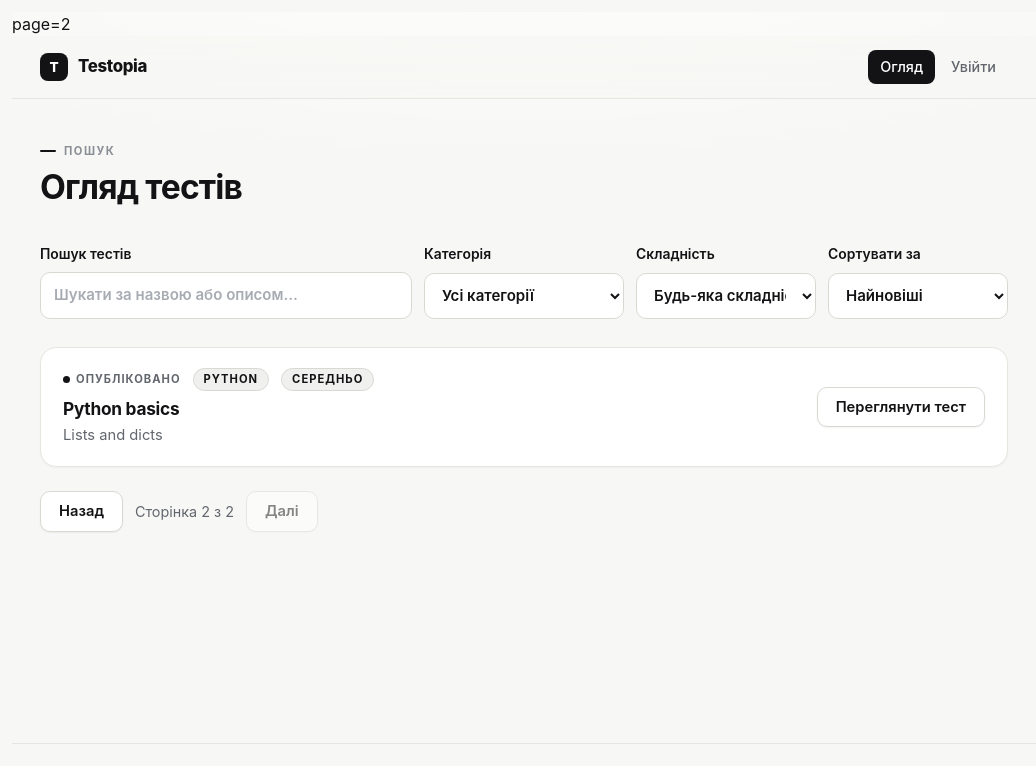
Test case: browse pagination and sorting › sorts through the select and resets to the first page
Check: the heading "Python basics" is shown, box x1=63 y1=398 x2=179 y2=419
Check: the text with test id "search-probe" reads "page=2", box x1=12 y1=14 x2=70 y2=34
Select "Найпопулярніші" in the dropdown labelled "Сортувати за" at {"x": 918, "y": 296}, box x1=828 y1=273 x2=1008 y2=319
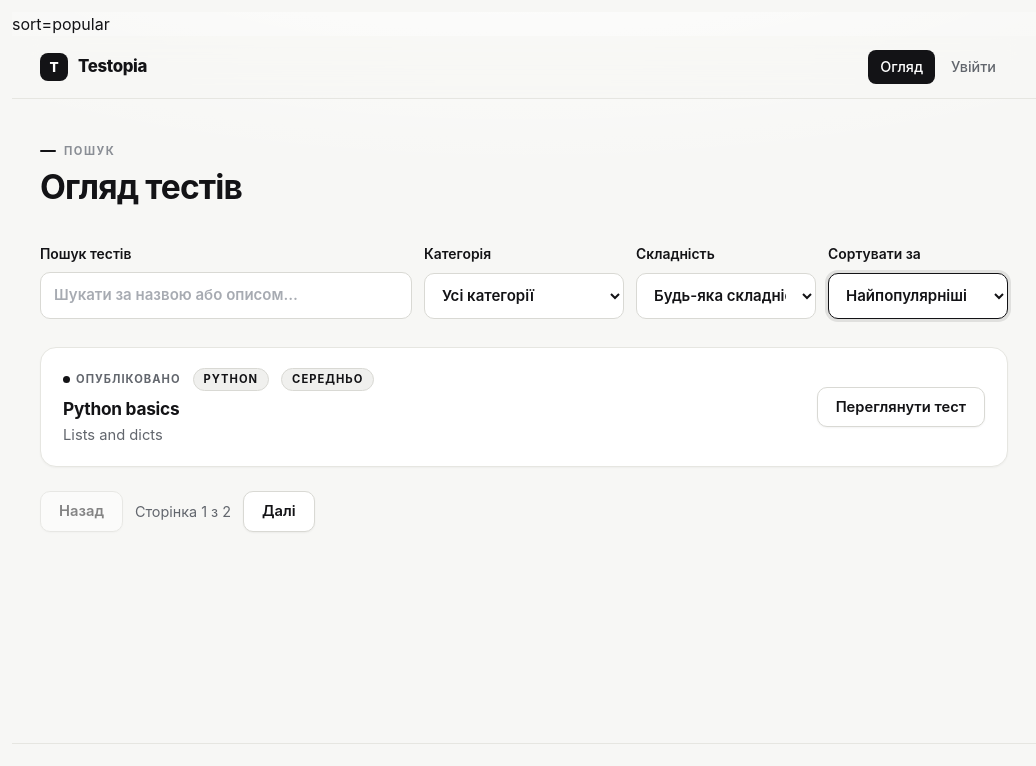
Check: the text "Сторінка 1 з 2" is shown, box x1=135 y1=501 x2=231 y2=522
Check: the text with test id "search-probe" reads "sort=popular", box x1=12 y1=14 x2=110 y2=34
Click the button "Далі" at {"x": 279, "y": 512}, box x1=243 y1=492 x2=315 y2=532
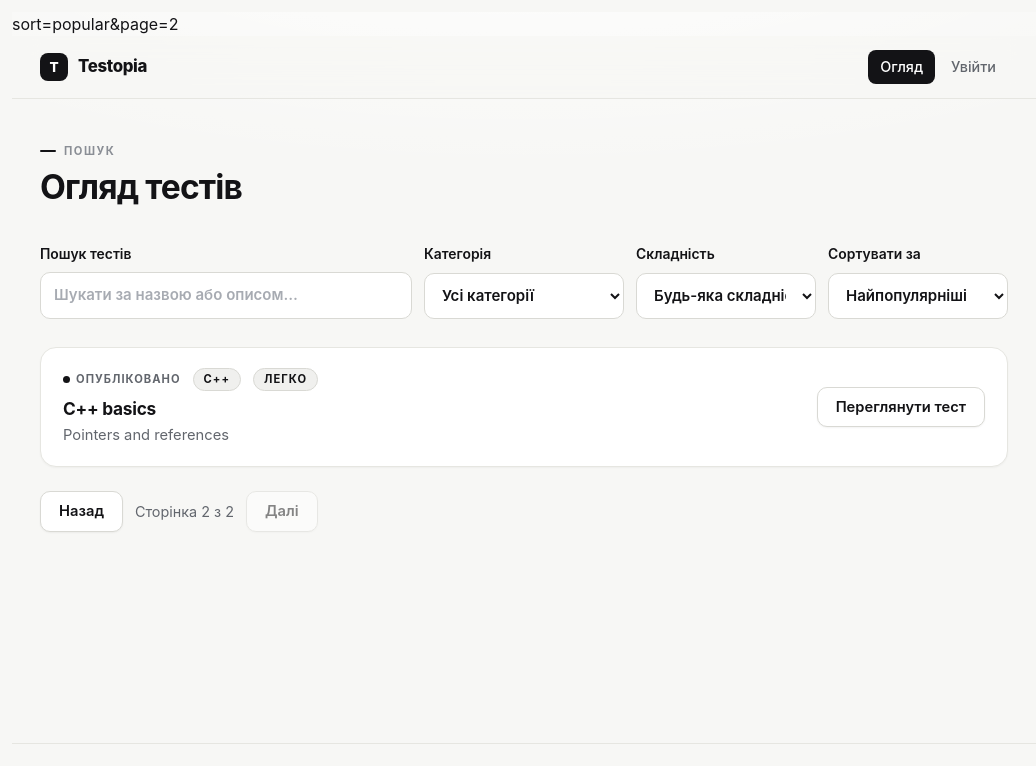
Check: the heading "C++ basics" is shown, box x1=63 y1=398 x2=156 y2=419
Check: the text with test id "search-probe" reads "sort=popular&page=2", box x1=12 y1=14 x2=178 y2=34
